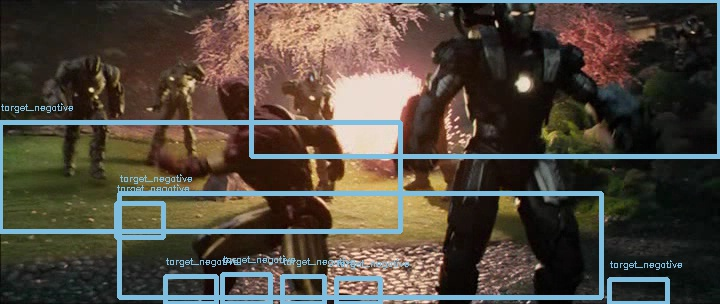person: (216, 76, 253, 119), (215, 76, 252, 119), (217, 76, 254, 119), (216, 75, 253, 118), (216, 77, 253, 120)
target_negative: (459, 20, 474, 274), (90, 238, 146, 300), (693, 59, 707, 214), (437, 115, 486, 137), (559, 31, 679, 37), (576, 285, 691, 288)
